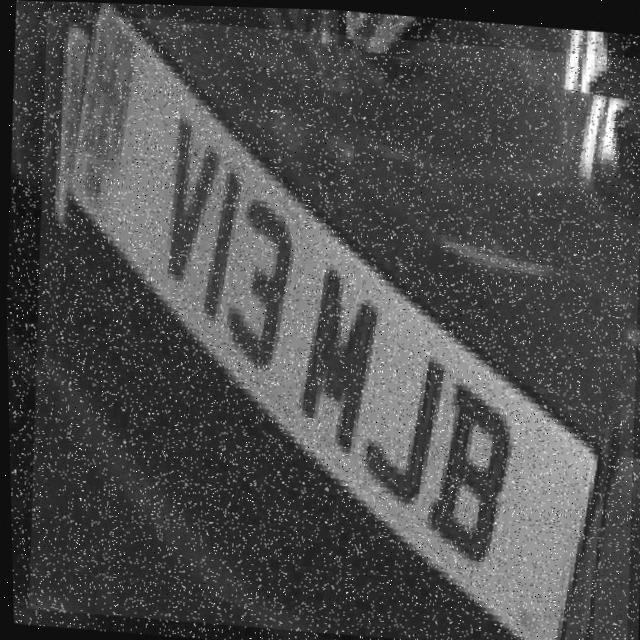LicensePlate: (15, 9, 640, 640)
